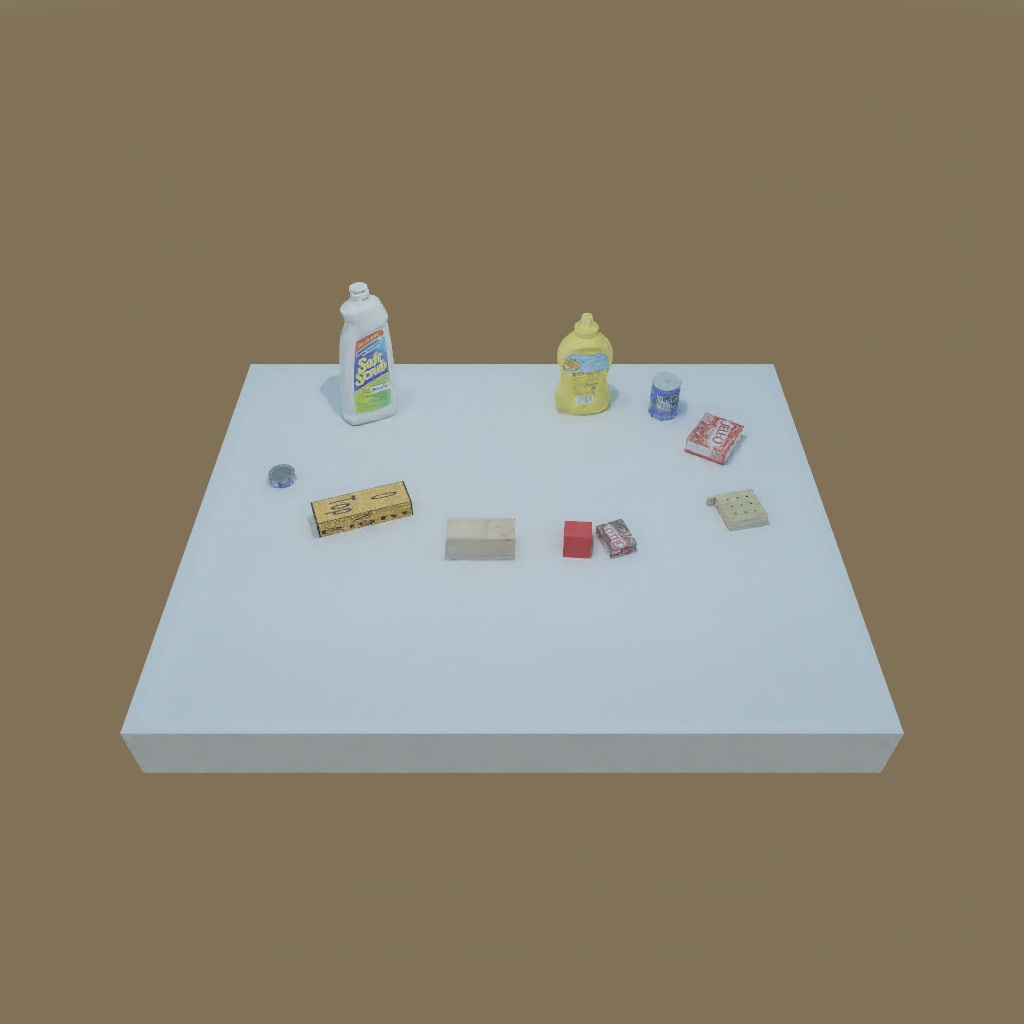gelatin_box: (684, 413, 746, 462)
jenga: (309, 479, 414, 534)
master_chef_can: (646, 372, 686, 425)
mustard_bottle: (558, 313, 612, 415)
nine_hole_peg_test: (700, 487, 765, 532)
pudding_box: (597, 518, 640, 559)
wood_block: (438, 509, 519, 568)
